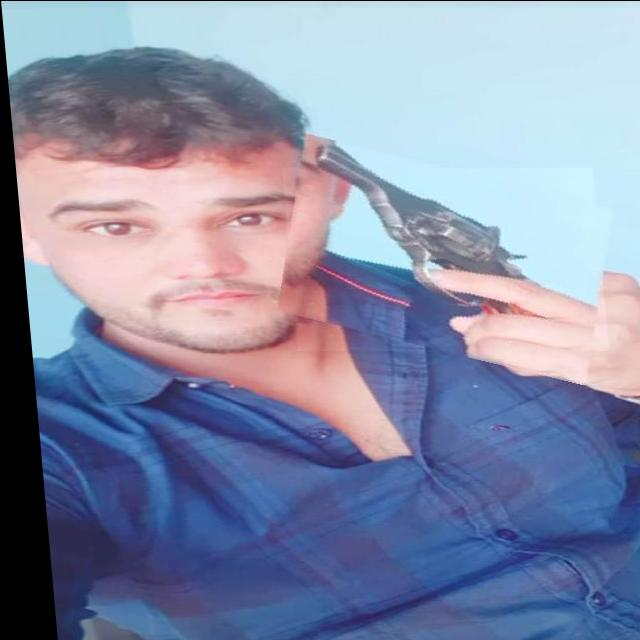handgun: (303, 138, 532, 314)
